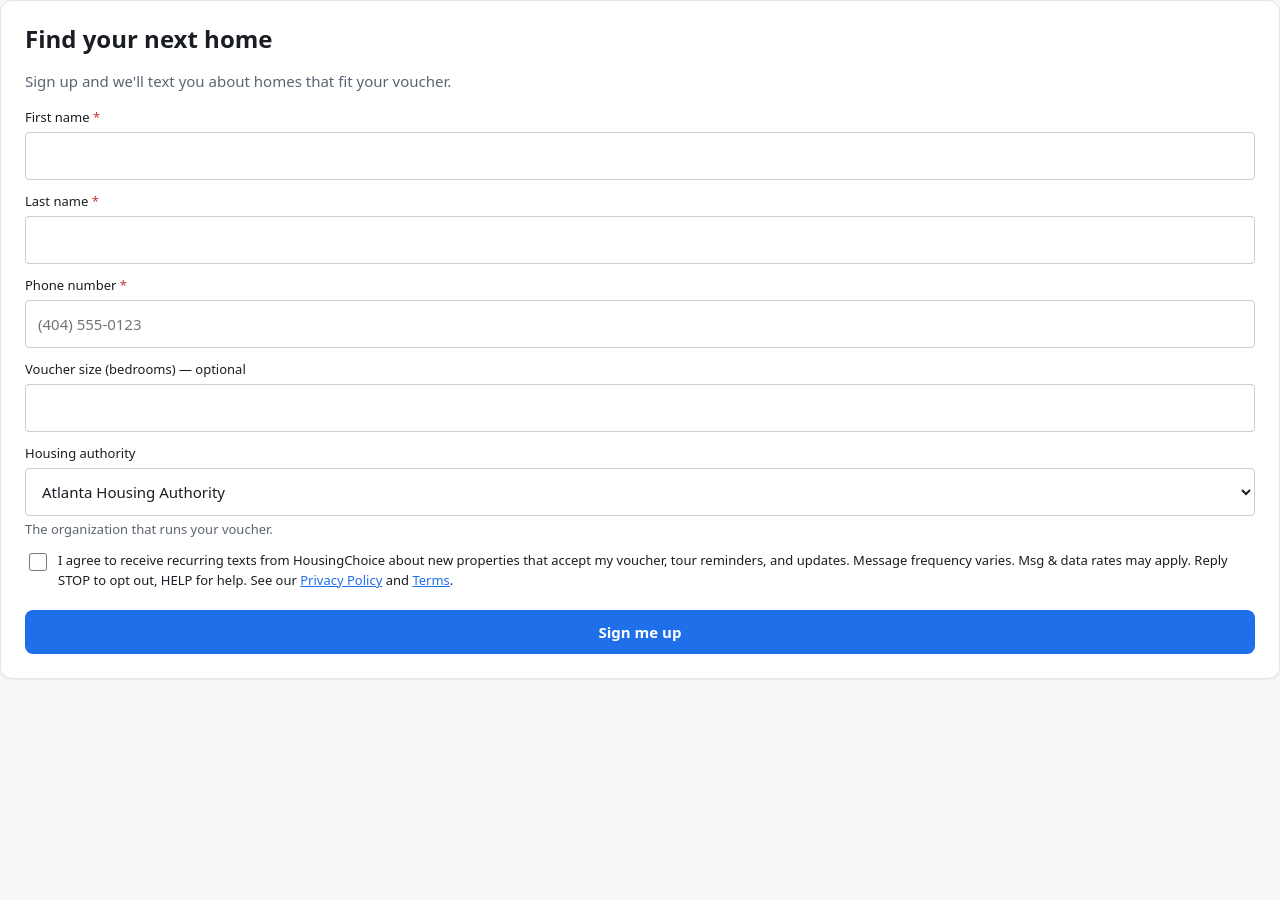
it: HousingFairIntake (/join) › clears the validation error as soon as the user edits a field
Click the button "Sign me up".
click(640, 632)  # box [25, 610, 1255, 654]
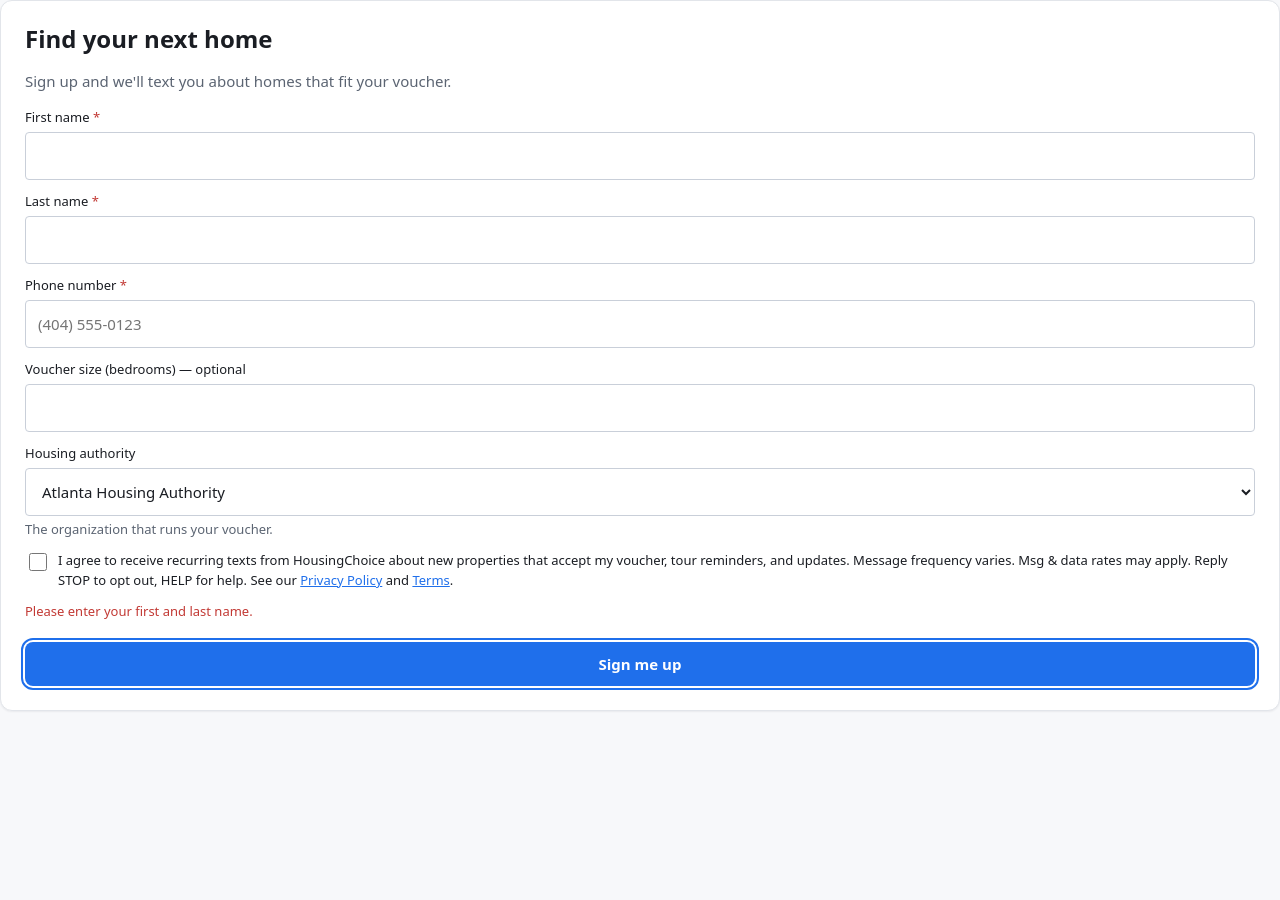
Check: the message "Please enter your first and last name." is shown, box [25, 602, 253, 620]
// Editing any field clears the standing error (corrected field stops erroring).
Type "G" into the field labelled "First name *".
click(640, 156); type("G")  # box [25, 132, 1255, 180]
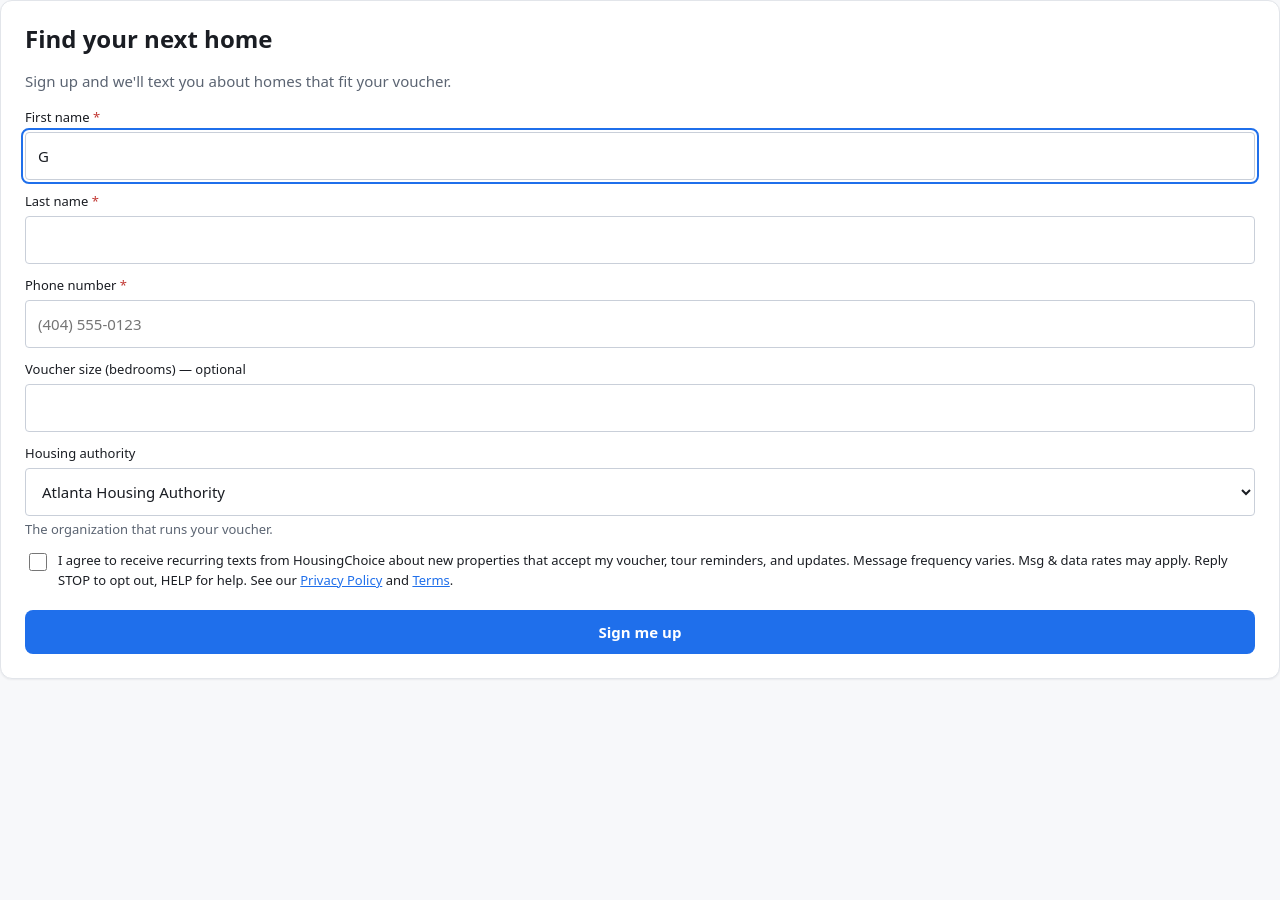
Check: the message "Please enter your first and last name." is gone
